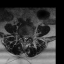CCS_normal: (24, 36, 25, 43)
LFS_severe_stenosis: (27, 35, 29, 39)
LLS_stenosis: (25, 35, 27, 41)
RFS_severe_stenosis: (20, 34, 22, 39)
RLS_stenosis: (22, 35, 24, 41)
